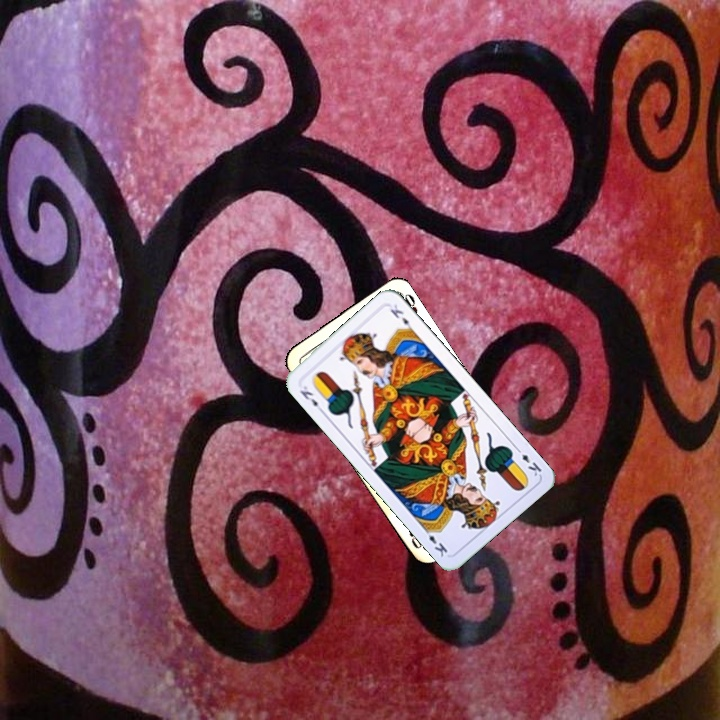EK: (511, 443, 544, 478), (296, 382, 326, 415)
